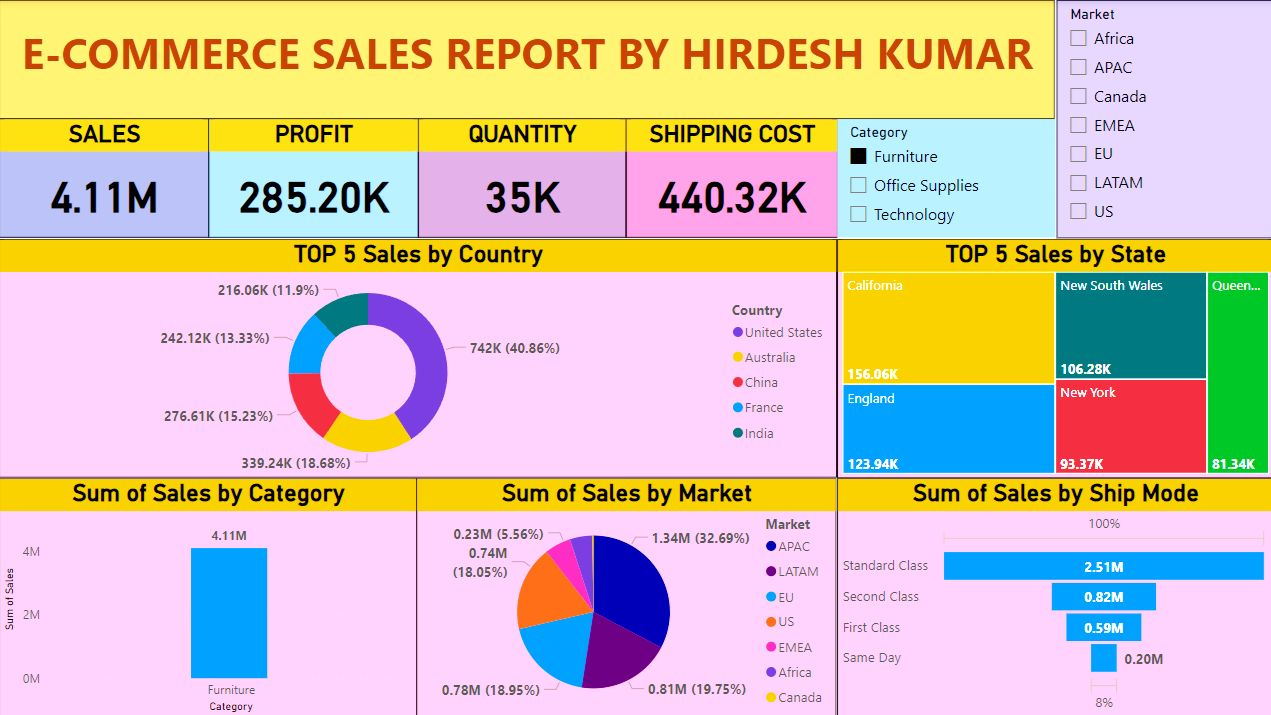

Layout of this report page (visuals, bound fields, positions):
{"tool":"powerbi","page":{"name":"Page 1","canvas":[1280,720],"ordinal":0},"visuals":[{"type":"columnChart","fields":{"Category":["Orders.Category"],"Y":["Sum(Orders.Sales)"]},"box":[0,480,420,240],"z":0},{"type":"pieChart","fields":{"Category":["Orders.Market"],"Y":["Sum(Orders.Sales)"]},"box":[420,480,421.8,240],"z":1000},{"type":"funnel","fields":{"Category":["Orders.Ship Mode"],"Y":["Sum(Orders.Sales)"]},"box":[841.8,480,438.2,240],"z":2000},{"type":"donutChart","title":"TOP 5 Sales by Country","fields":{"Category":["Orders.Country"],"Y":["Sum(Orders.Sales)"]},"box":[0,239.6,841.7,239.6],"z":3000},{"type":"treemap","title":"TOP 5 Sales by State","fields":{"Group":["Orders.State"],"Values":["Sum(Orders.Sales)"]},"box":[841.8,240,438.2,240],"z":4000},{"type":"card","title":"SALES","fields":{"Values":["Sum(Orders.Sales)"]},"box":[0,119.6,210.7,119.6],"z":5000},{"type":"card","title":"PROFIT","fields":{"Values":["Sum(Orders.Profit)"]},"box":[210.7,119.6,210.7,119.6],"z":6000},{"type":"card","title":"QUANTITY","fields":{"Values":["Sum(Orders.Quantity)"]},"box":[421.4,119.6,208.9,119.6],"z":7000},{"type":"card","title":"SHIPPING COST","fields":{"Values":["Sum(Orders.Shipping Cost)"]},"box":[630.4,119.6,212.5,119.6],"z":8000},{"type":"slicer","fields":{"Values":["Orders.Category"]},"box":[842.9,119.6,219.6,119.6],"z":9000},{"type":"slicer","fields":{"Values":["Orders.Market"]},"box":[1062.5,0,217.9,239.3],"z":10000},{"type":"textbox","box":[0,0,1060.7,119.6],"z":11000}]}

Visuals, with their boxes in screenshot pixels (x1, y1, x2, y2), scaled from the page's 1280x720 canvas onto the 1271x715 screenshot:
columnChart - Orders.Category x Sum(Orders.Sales): pyautogui.locateOnScreen(0, 477, 417, 714)
pieChart - Orders.Market x Sum(Orders.Sales): pyautogui.locateOnScreen(417, 477, 836, 714)
funnel - Orders.Ship Mode x Sum(Orders.Sales): pyautogui.locateOnScreen(836, 477, 1270, 714)
"TOP 5 Sales by Country" donutChart: pyautogui.locateOnScreen(0, 238, 836, 476)
"TOP 5 Sales by State" treemap: pyautogui.locateOnScreen(836, 238, 1270, 477)
"SALES" card: pyautogui.locateOnScreen(0, 119, 209, 238)
"PROFIT" card: pyautogui.locateOnScreen(209, 119, 418, 238)
"QUANTITY" card: pyautogui.locateOnScreen(418, 119, 626, 238)
"SHIPPING COST" card: pyautogui.locateOnScreen(626, 119, 837, 238)
slicer - Orders.Category: pyautogui.locateOnScreen(837, 119, 1055, 238)
slicer - Orders.Market: pyautogui.locateOnScreen(1055, 0, 1270, 238)
textbox: pyautogui.locateOnScreen(0, 0, 1053, 119)
